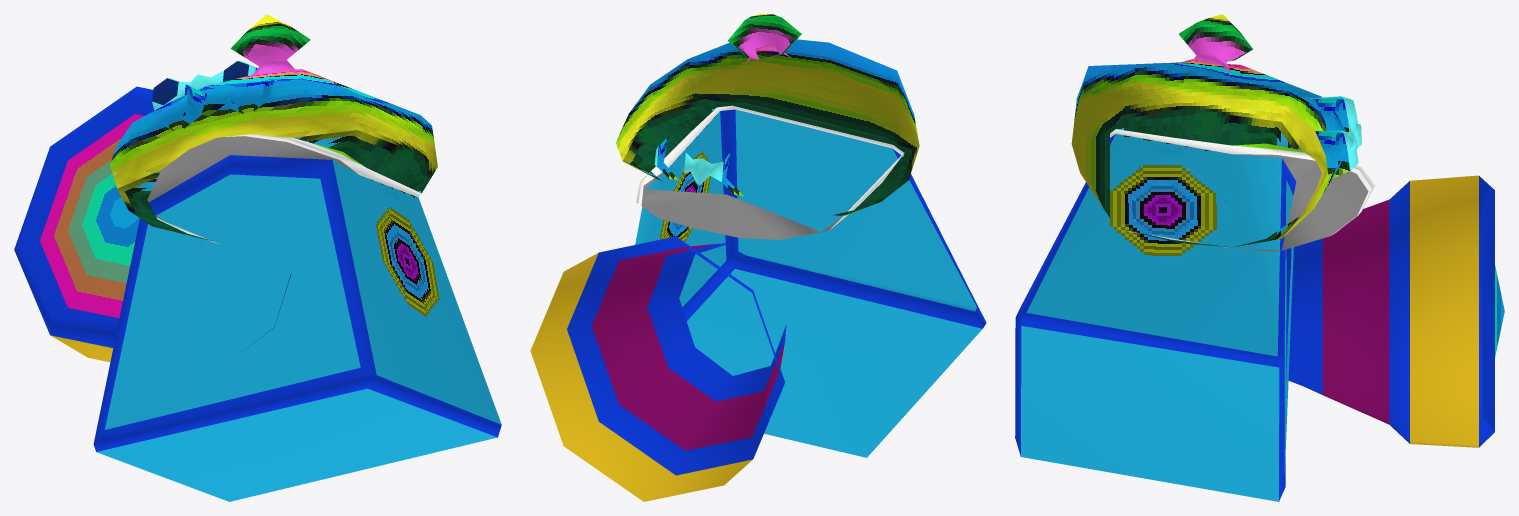
File: ps2_save-icons_supergaldelicamera.glb
3 renders of one model, left to right at view 1: azimuth 30°, elevation 25°; view 2: azimuth 150°, elevation 25°; view 3: azimuth 270°, elevation 25°, orthographic. The views are drawn at different scales.
Visible parts, largest first — view 1: abm_sys.ico; view 2: abm_sys.ico; view 3: abm_sys.ico.
Part boxes in pixels (left/top/right/bottom): abm_sys.ico: left=14, top=14, right=501, bottom=501; abm_sys.ico: left=530, top=14, right=986, bottom=501; abm_sys.ico: left=1015, top=14, right=1504, bottom=501.
Size of the model in its own units: 2.99 by 4.37 by 4.49.
1 material, 1 textured.
